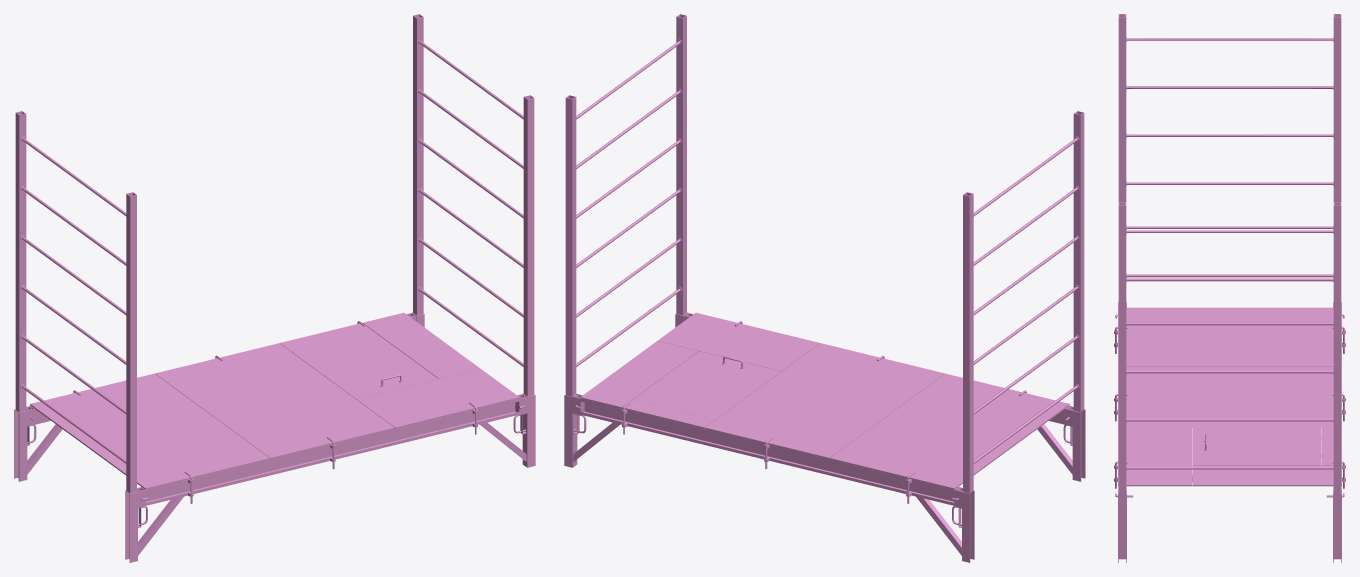
The model's file is SM_RollingScaffoldMid.fbx.
3 views of the same model, side by side, from view 1: azimuth 30°, elevation 25°; view 2: azimuth 150°, elevation 25°; view 3: azimuth 270°, elevation 25° (orthographic). The views are drawn at different scales.
Parts seen in each view (by area): view 1: RollingScaffoldMid; view 2: RollingScaffoldMid; view 3: RollingScaffoldMid.
Part boxes in pixels (box(x1,y1,x2,y2)): RollingScaffoldMid: box(14, 14, 535, 562); RollingScaffoldMid: box(564, 14, 1085, 562); RollingScaffoldMid: box(1114, 14, 1345, 562).
Bounding box in the file's own units: 300 × 260 × 153.
